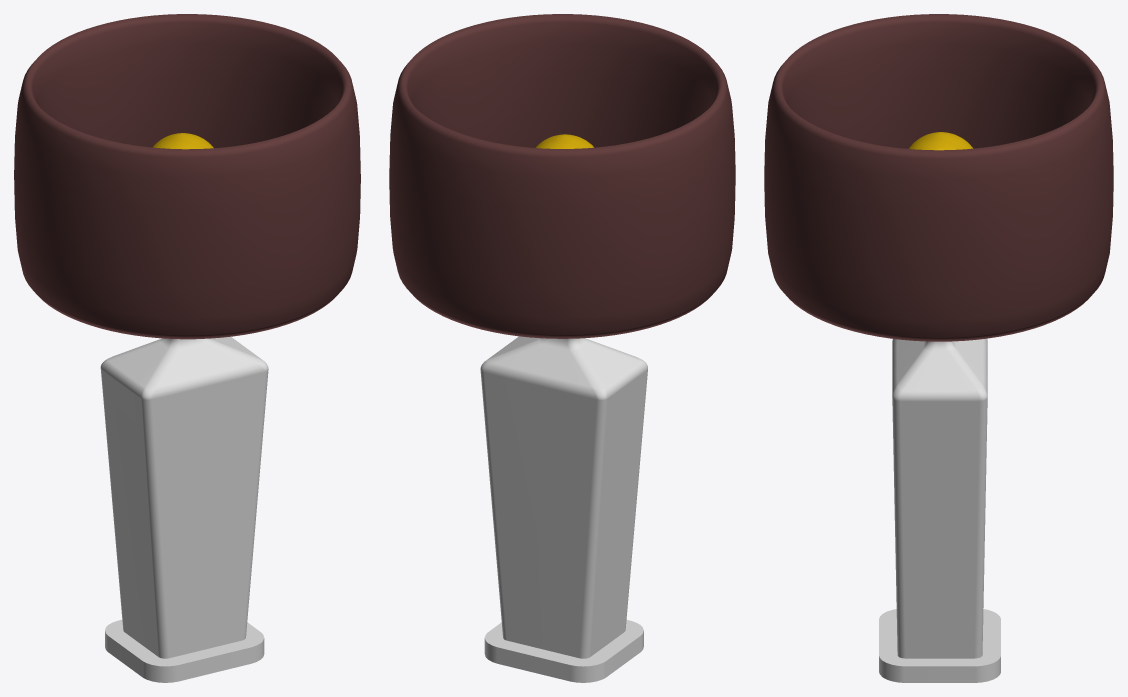
File: LampeSalon2_4.fbx
The picture shows the model from 3 angles, left to right: view 1: azimuth 30°, elevation 25°; view 2: azimuth 150°, elevation 25°; view 3: azimuth 270°, elevation 25°; orthographic projection.
Visible parts, largest first — view 1: pPipe117, pCube2060, pCylinder776; view 2: pPipe117, pCube2060, pCylinder776; view 3: pPipe117, pCube2060, pCylinder776.
Part boxes in pixels (bbox=[...]): pPipe117: bbox=[14, 14, 360, 339]; pCube2060: bbox=[100, 336, 268, 682]; pCylinder776: bbox=[152, 133, 213, 149]; pPipe117: bbox=[389, 14, 735, 338]; pCube2060: bbox=[480, 336, 647, 682]; pCylinder776: bbox=[535, 134, 593, 148]; pPipe117: bbox=[764, 14, 1113, 341]; pCube2060: bbox=[879, 338, 1000, 682]; pCylinder776: bbox=[908, 132, 973, 150].
Bounding box in the file's own units: 31.01 × 56.08 × 31.01.
